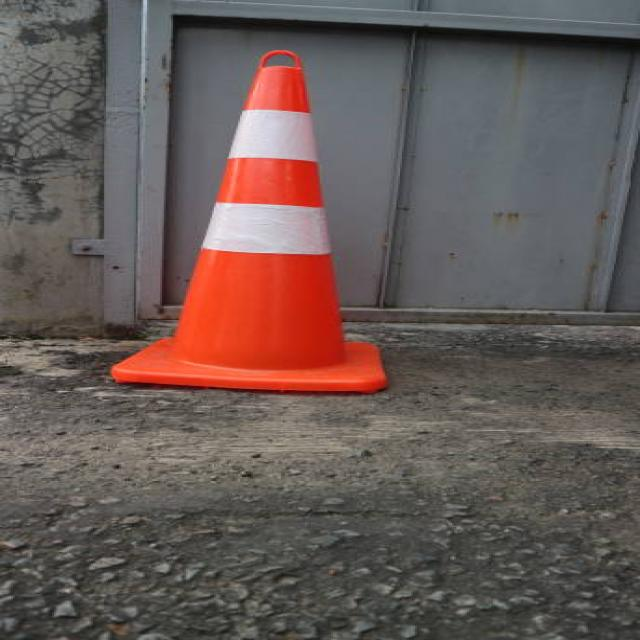Traffic Cone: (59, 10, 443, 415)
